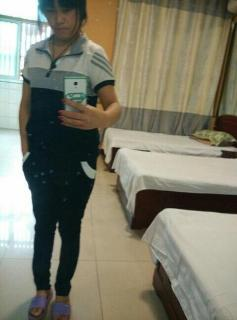short sleeve top: (21, 32, 115, 157)
trousers: (22, 149, 99, 296)
